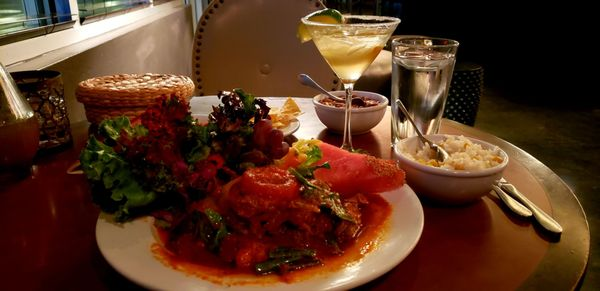salad: (394, 98, 449, 161), (298, 72, 367, 109), (298, 73, 346, 106)
sushi: (392, 131, 510, 205), (76, 71, 198, 127), (311, 85, 389, 132)
